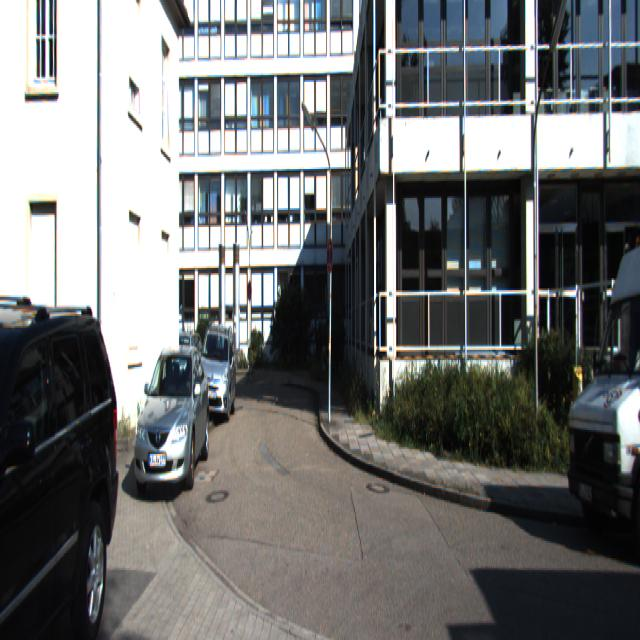Car: (0, 278, 124, 638), (558, 214, 640, 559), (129, 340, 212, 507), (194, 322, 238, 424)
